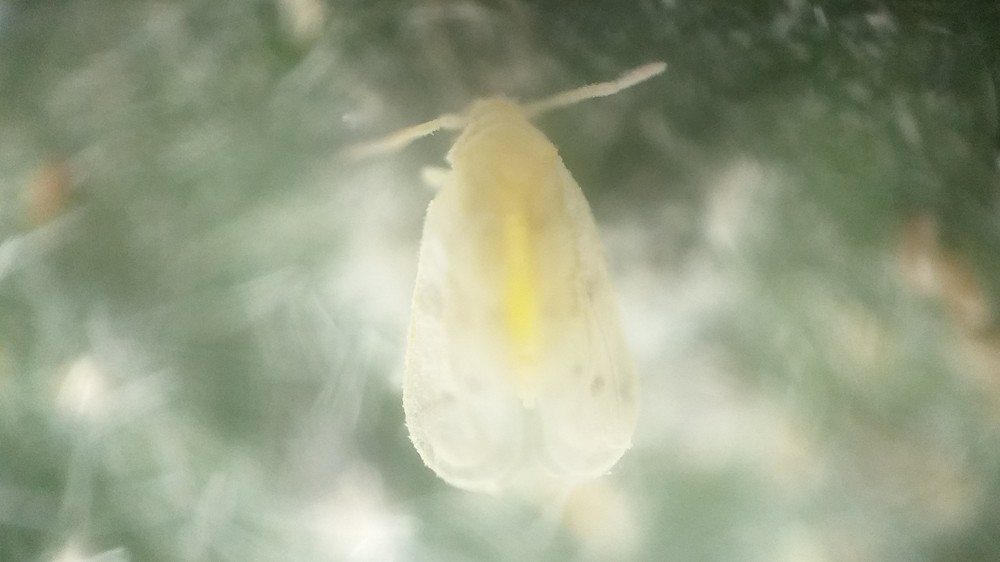Mosca Blanca: (311, 59, 731, 507)
